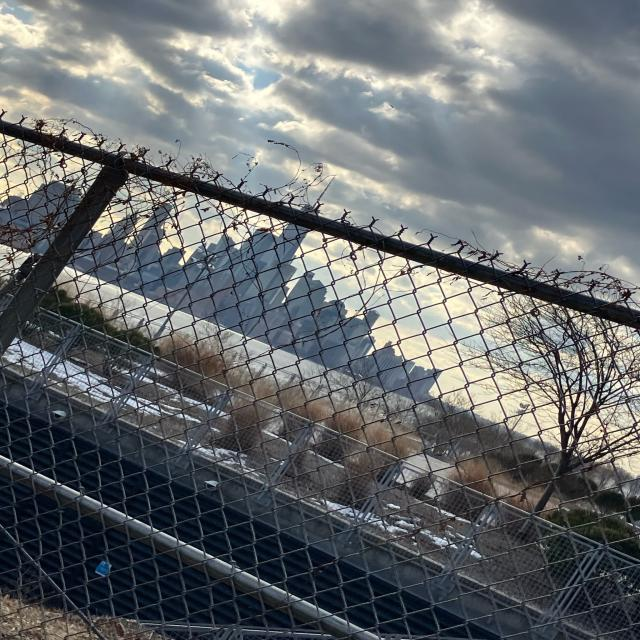WTC: (262, 174, 345, 265)
